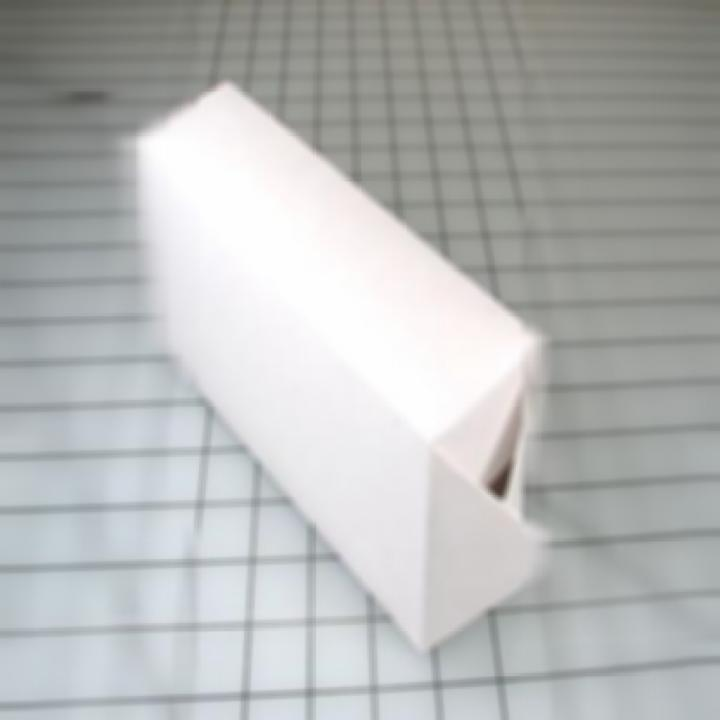box: (114, 77, 602, 631)
